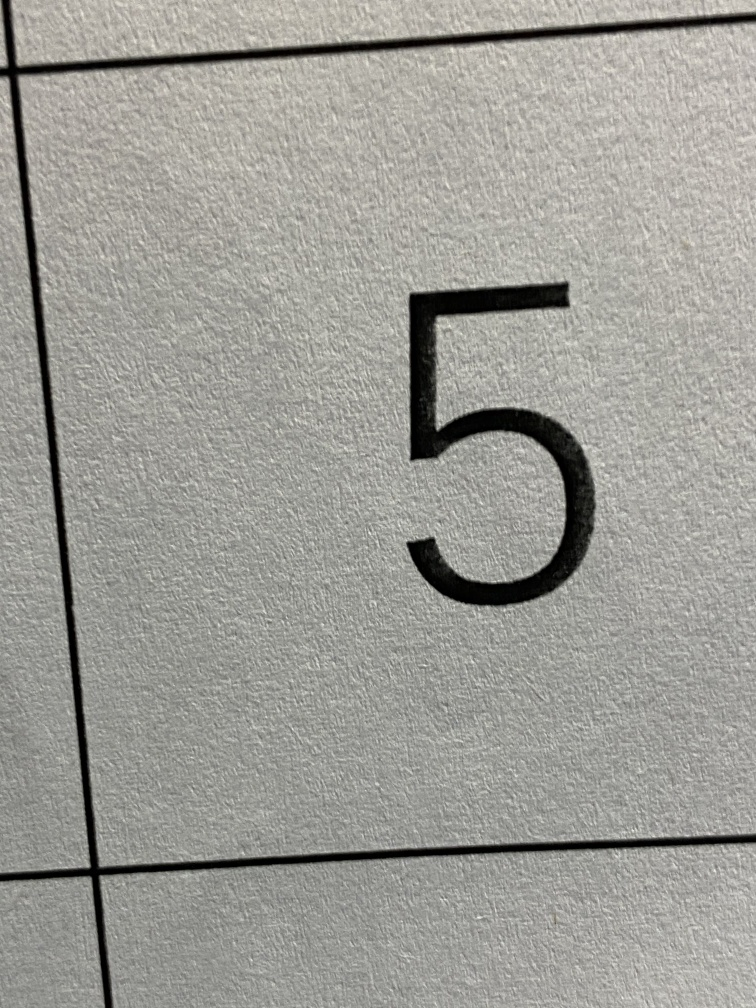five: (305, 189, 673, 693)
